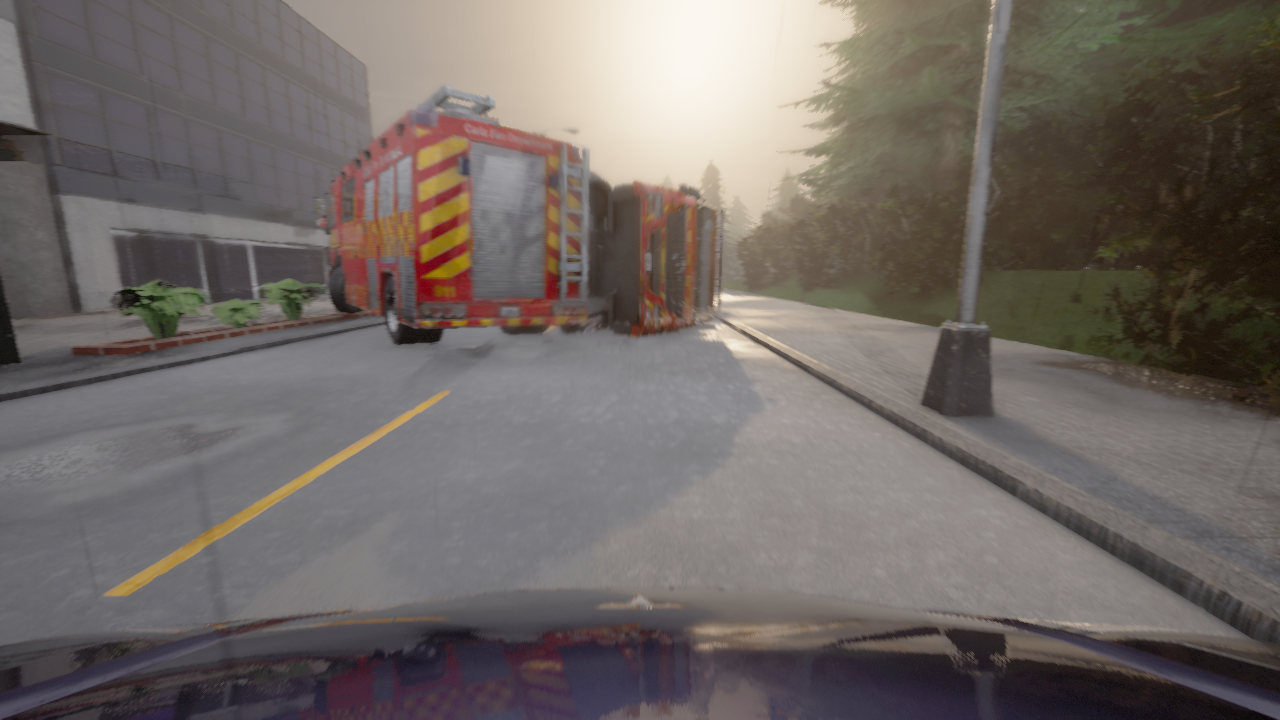cyclist: (0, 588, 1279, 719), (314, 84, 589, 345), (551, 172, 724, 337), (750, 230, 762, 259)
